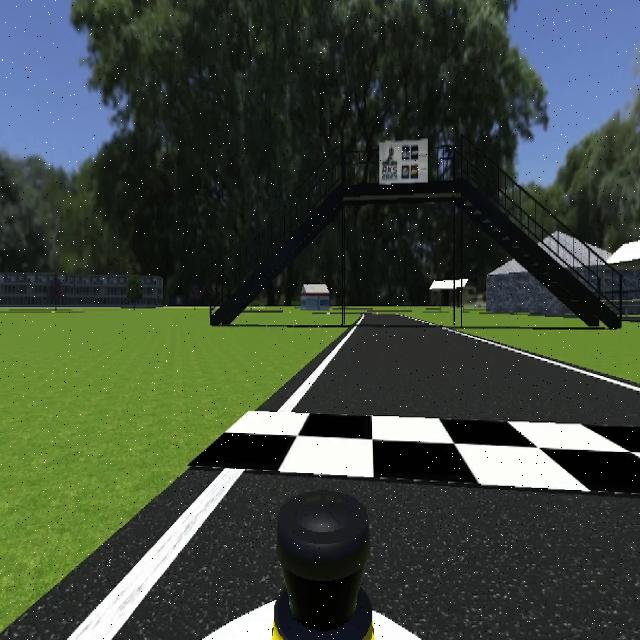finish: (191, 411, 640, 495)
road: (115, 475, 640, 640), (294, 318, 640, 426)
solid_line: (66, 470, 241, 640), (454, 333, 640, 394), (279, 318, 362, 413)
